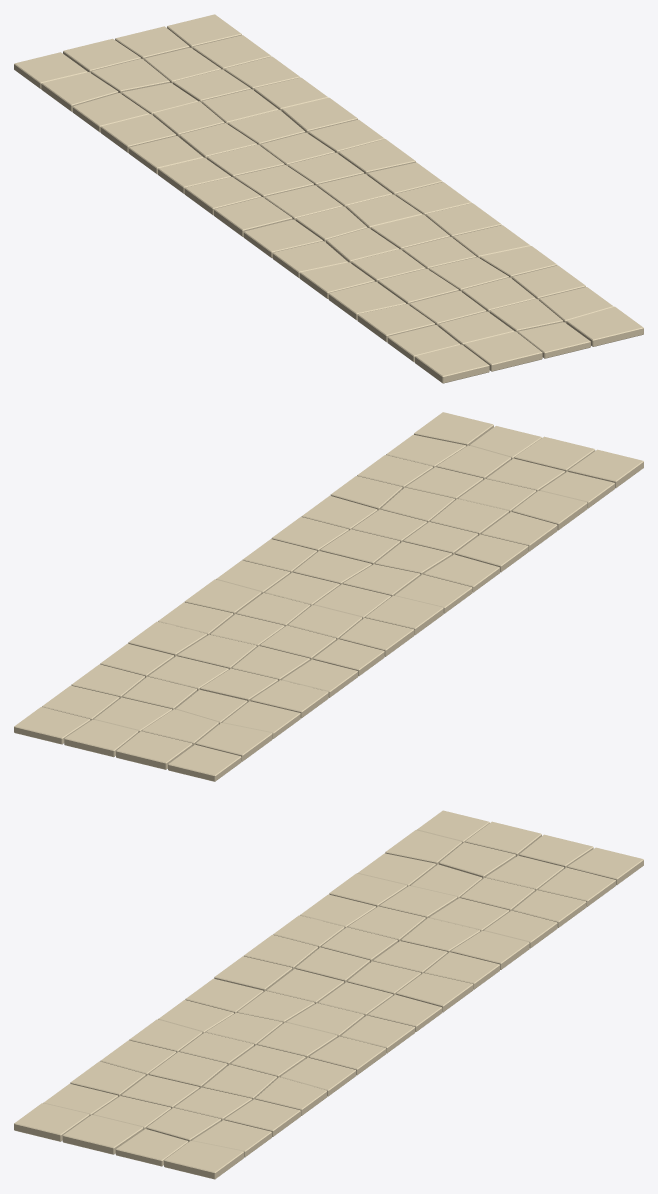
The model's file is Path3.fbx.
3 views of the same model, one above another, from view 1: azimuth 30°, elevation 25°; view 2: azimuth 150°, elevation 25°; view 3: azimuth 330°, elevation 25° (orthographic).
Visible parts, largest first — view 1: Path2_0_0.001; view 2: Path2_0_0.001; view 3: Path2_0_0.001.
Part boxes in pixels (x1,y1,x2,y2): Path2_0_0.001: (14,14,643,383); Path2_0_0.001: (14,412,643,781); Path2_0_0.001: (14,810,643,1179).
Size of the model in its own units: 2384 by 85.95 by 8784.
